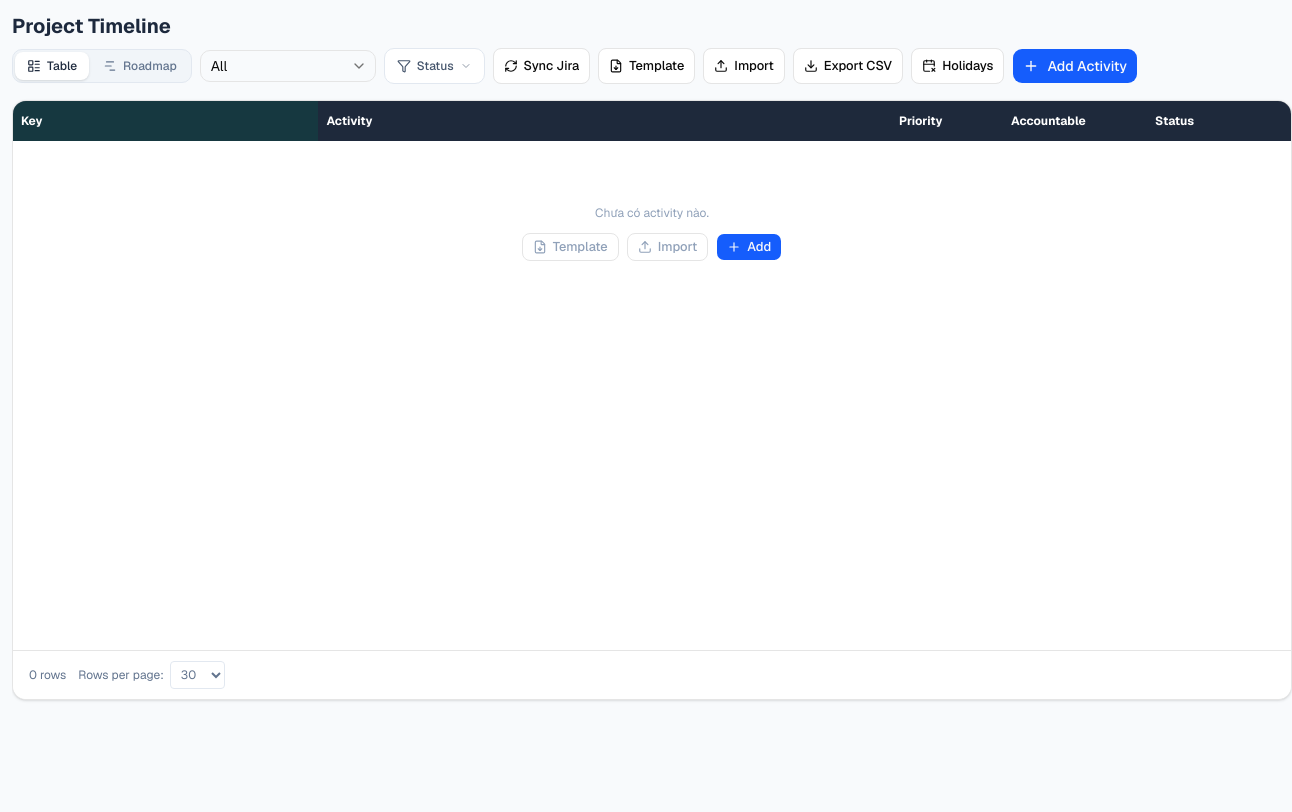
Test: TimelinePage › status filter updates filter state
Expected: the heading "Project Timeline" is shown, [12, 12, 171, 40]
Click the button "Status". click: (434, 66)
box: [384, 48, 485, 84]
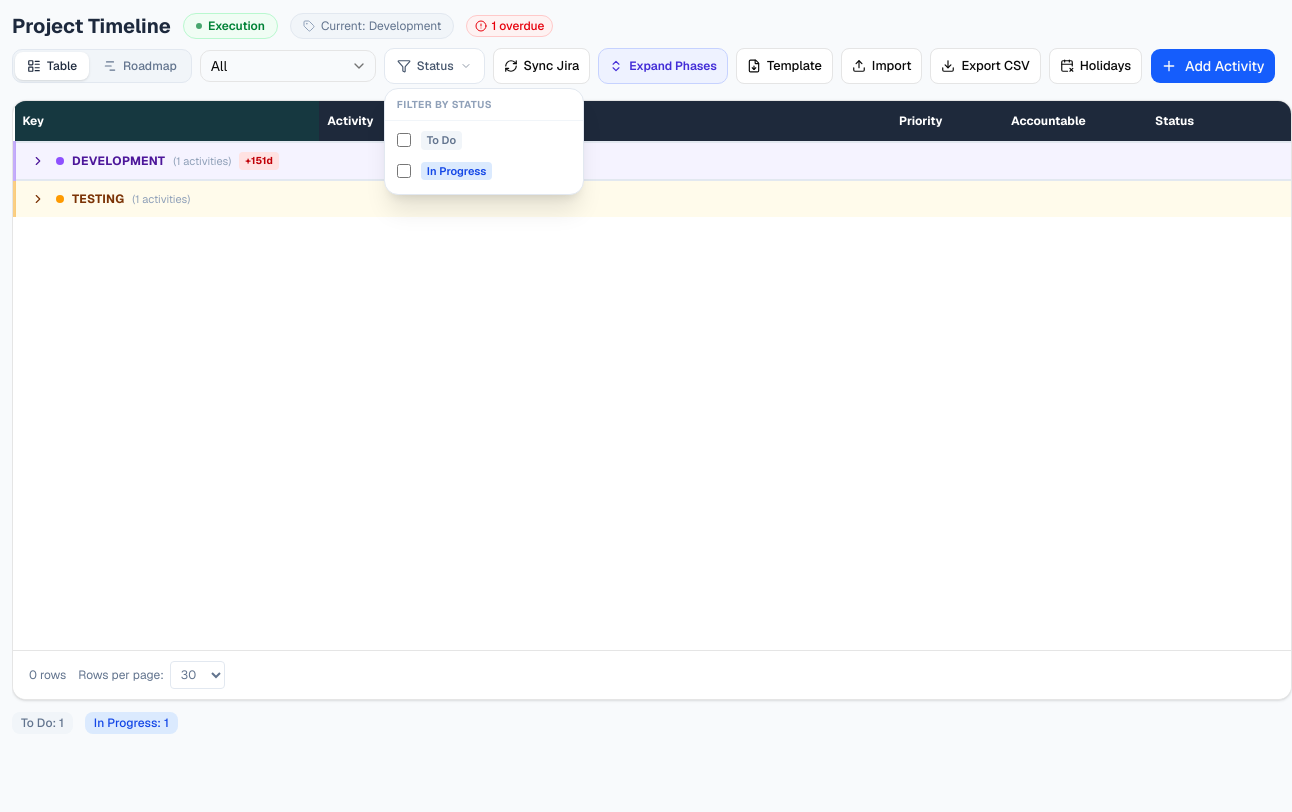
Result: the text "Filter by Status" is shown at [397, 97, 492, 112]
Click the checkbox labelled "To Do". click: (404, 140)
box: [397, 133, 411, 147]
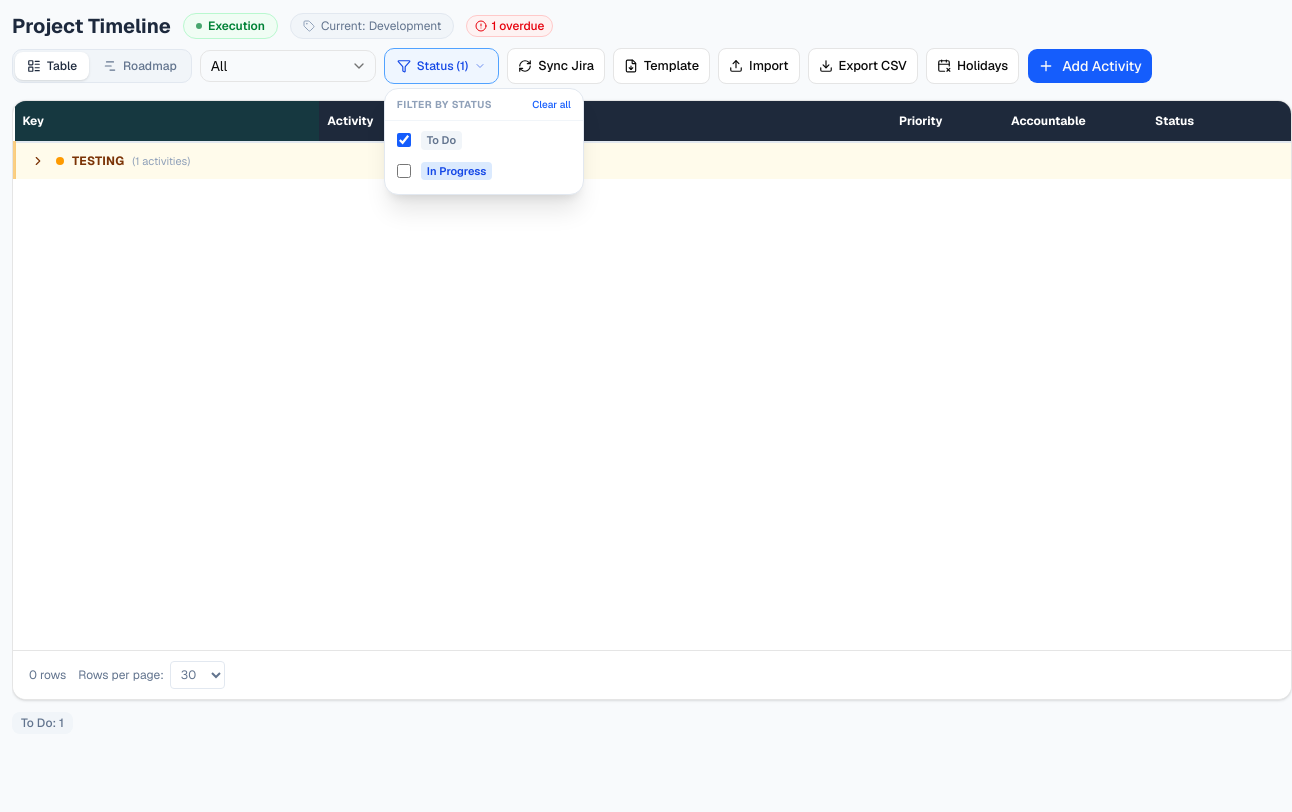
Result: the button "Status (1)" is shown at [384, 48, 499, 84]
